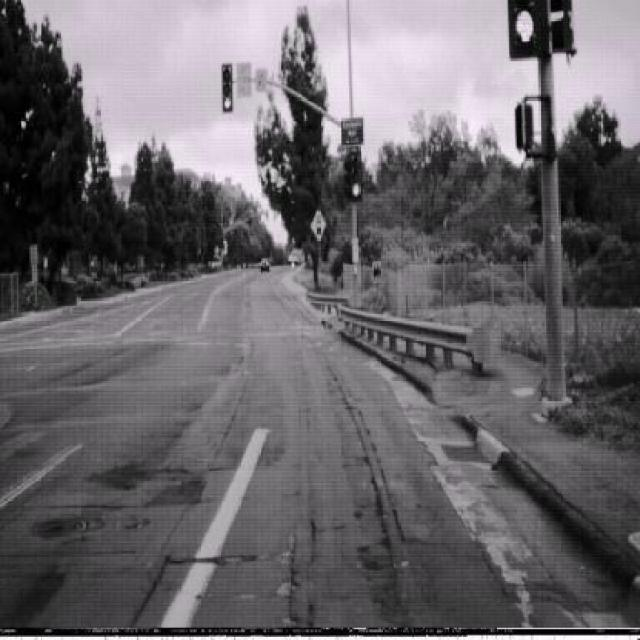signalAhead: (310, 208, 328, 242)
